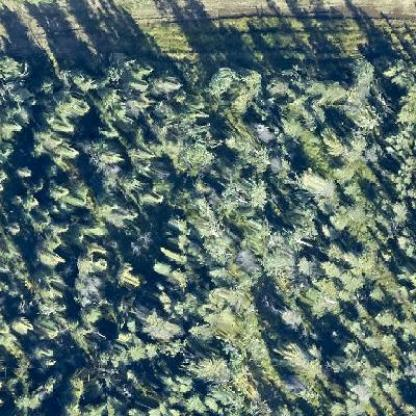tree-top: (206, 63, 260, 110), (278, 334, 328, 377), (179, 347, 231, 383), (338, 50, 374, 83), (57, 90, 92, 118), (111, 260, 145, 287), (10, 306, 36, 337), (12, 161, 34, 182)
